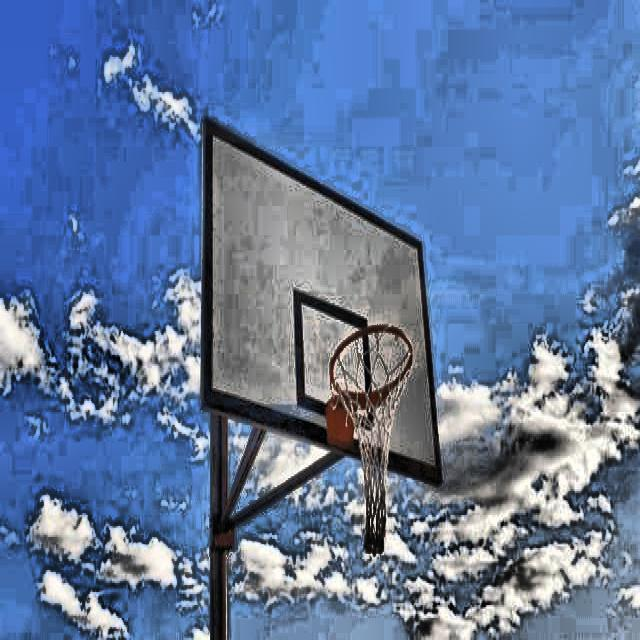rim: (330, 322, 414, 552)
